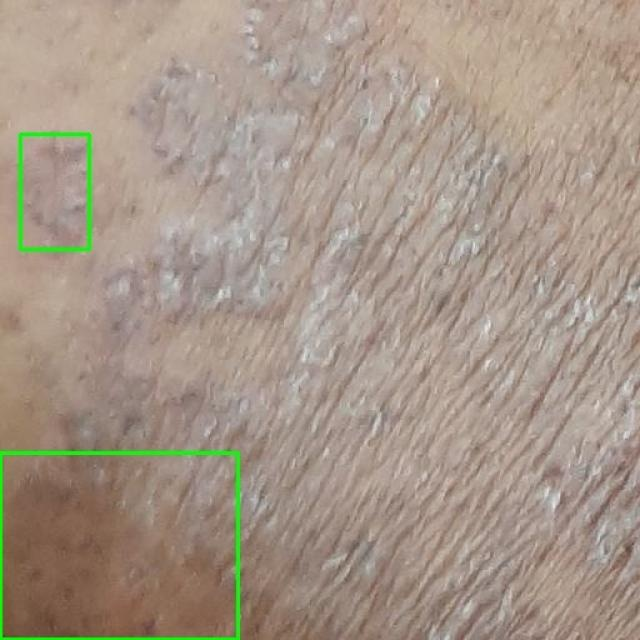Tinea Corporis: (0, 452, 238, 639), (20, 134, 89, 249)
